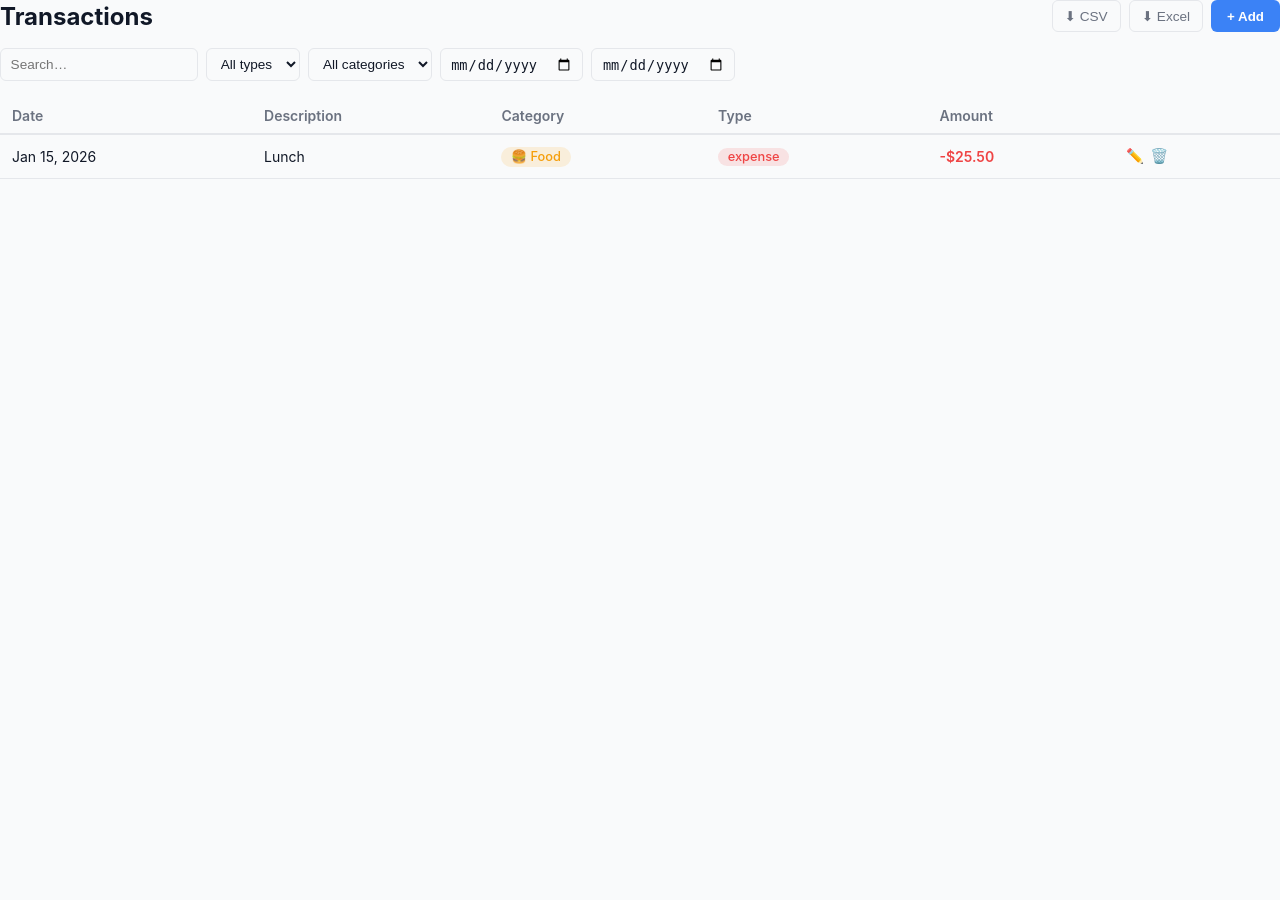
TransactionsPage › shows an error message when createTransaction fails
Click the button "+ Add" at (1246, 16), box [1211, 0, 1279, 32]
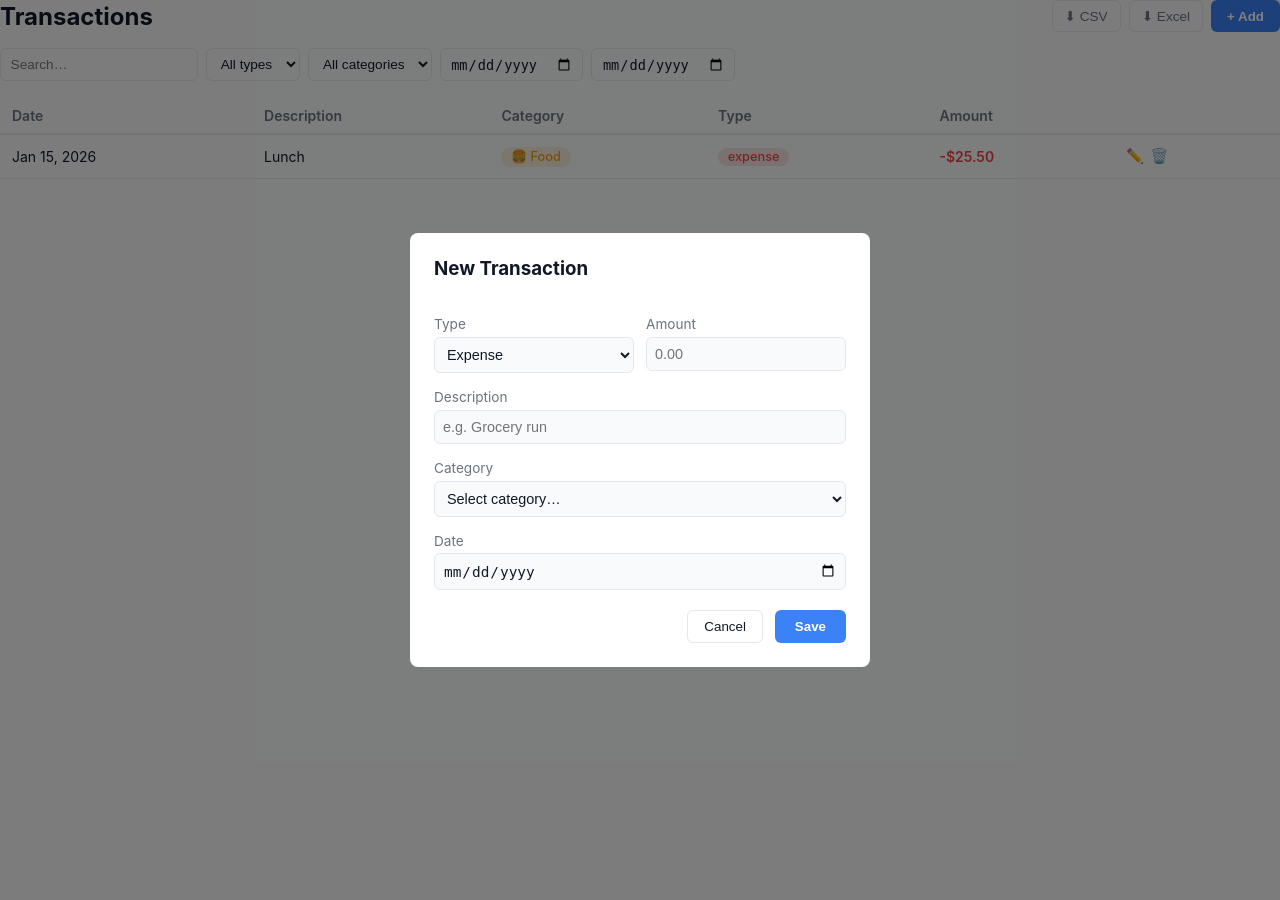
Type "25" into the number field with placeholder "0.00" at (746, 354), box [646, 337, 846, 371]
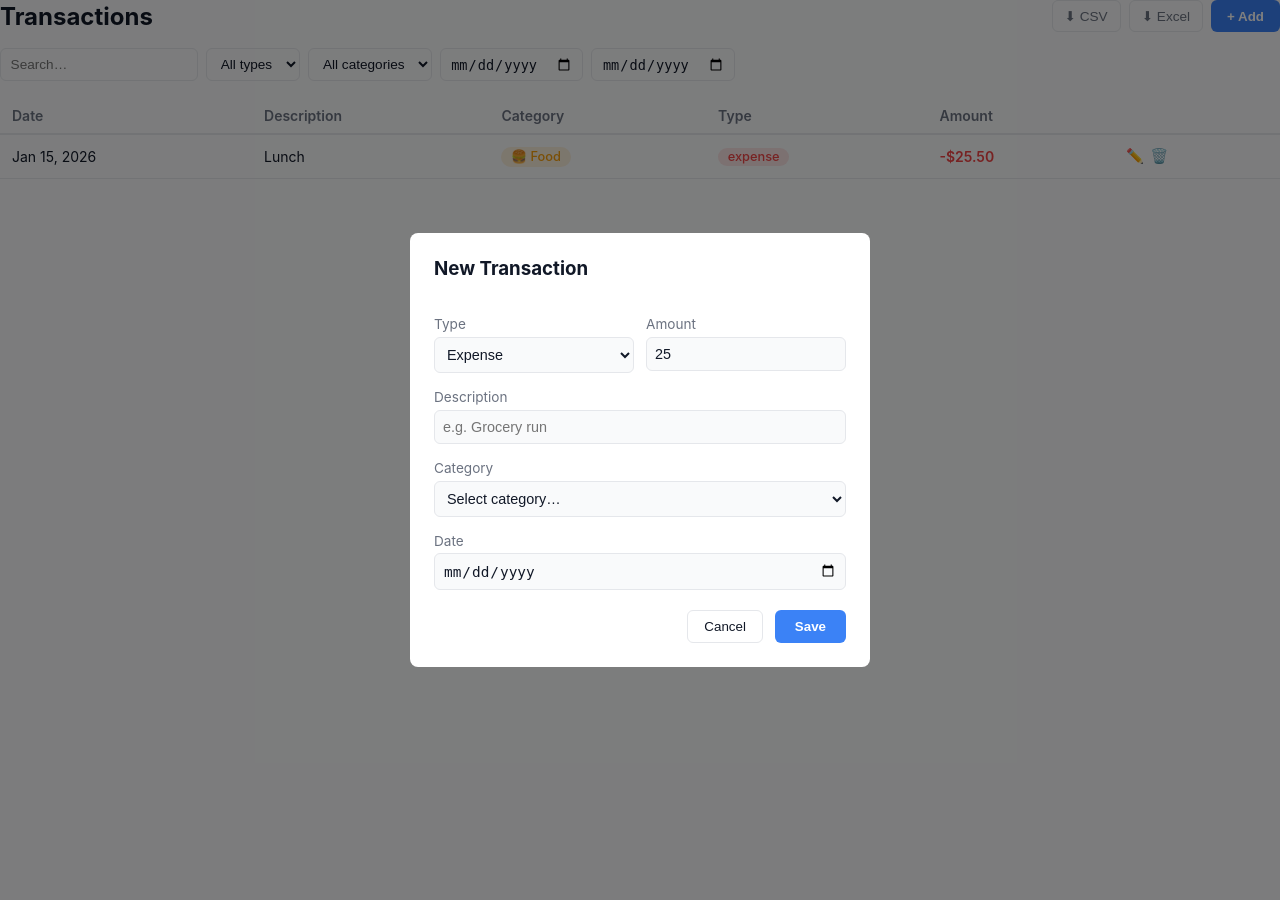
Type "Bad tx" into the field with placeholder "e.g. Grocery run" at (640, 427), box [434, 410, 846, 444]
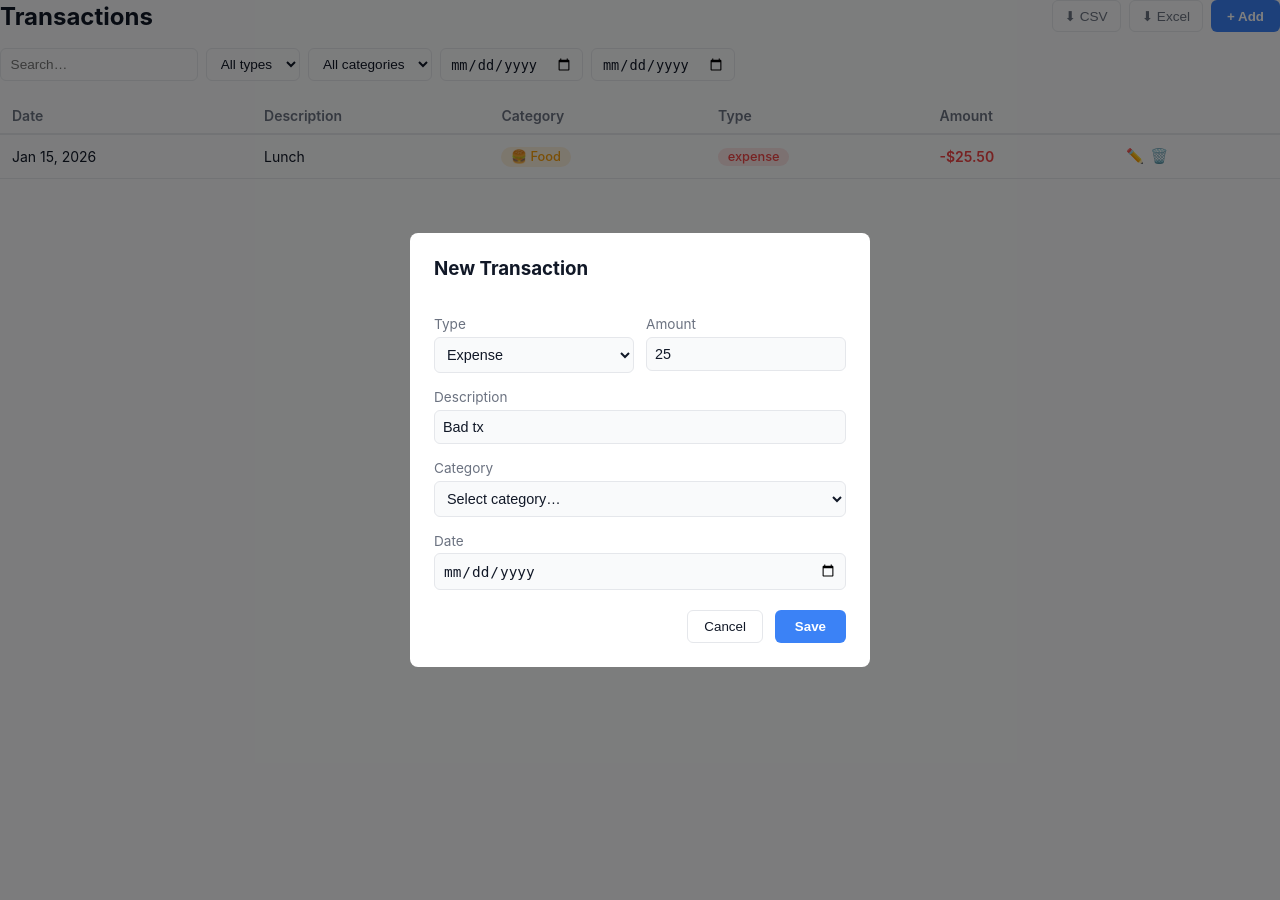
Select "🍔 Food" in the 2nd dropdown showing "Select category…" at (640, 499), box [434, 481, 846, 517]
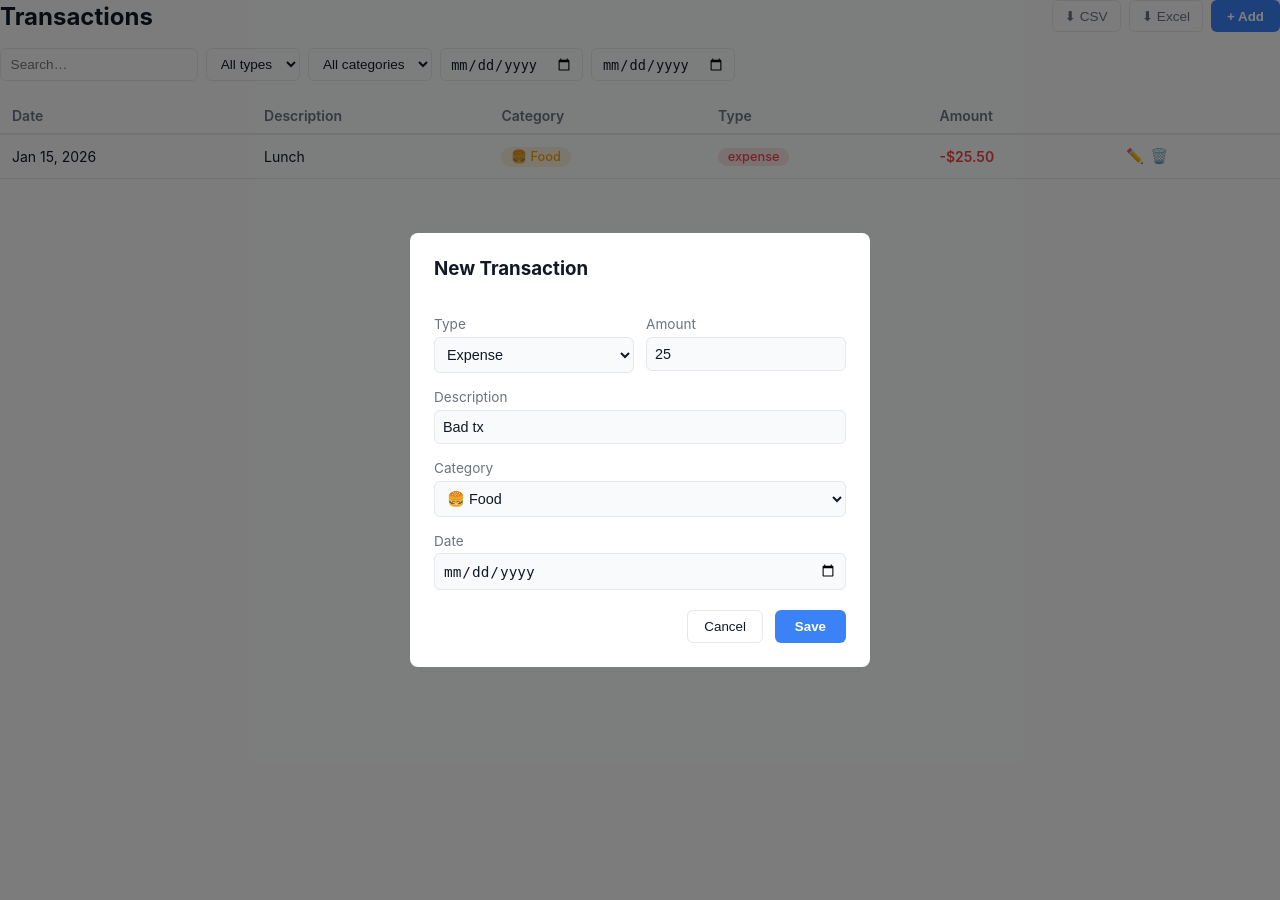
Click the button "Save" at (810, 626), box [775, 610, 846, 643]
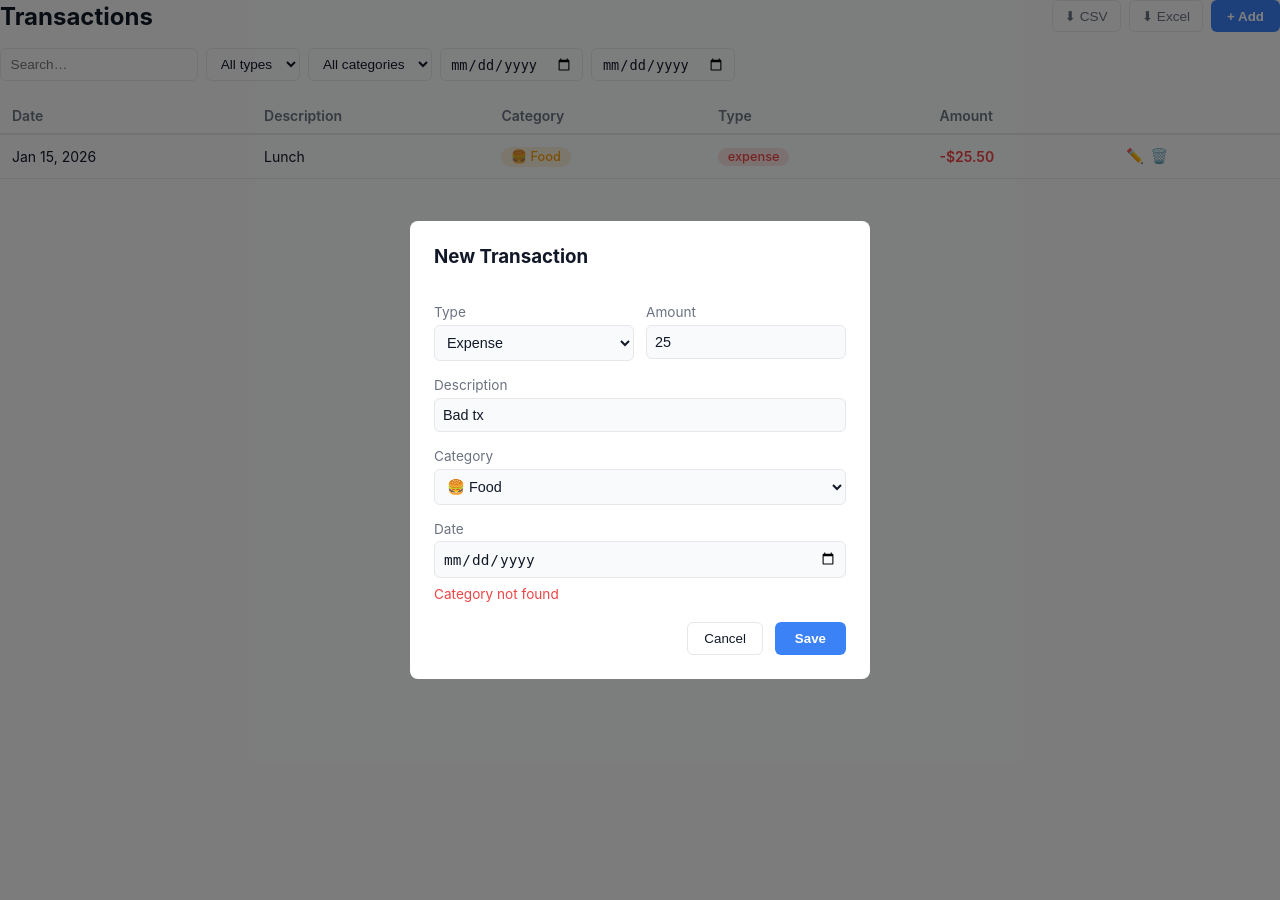
Expected: the text "Category not found" is shown, [434, 586, 559, 602]
